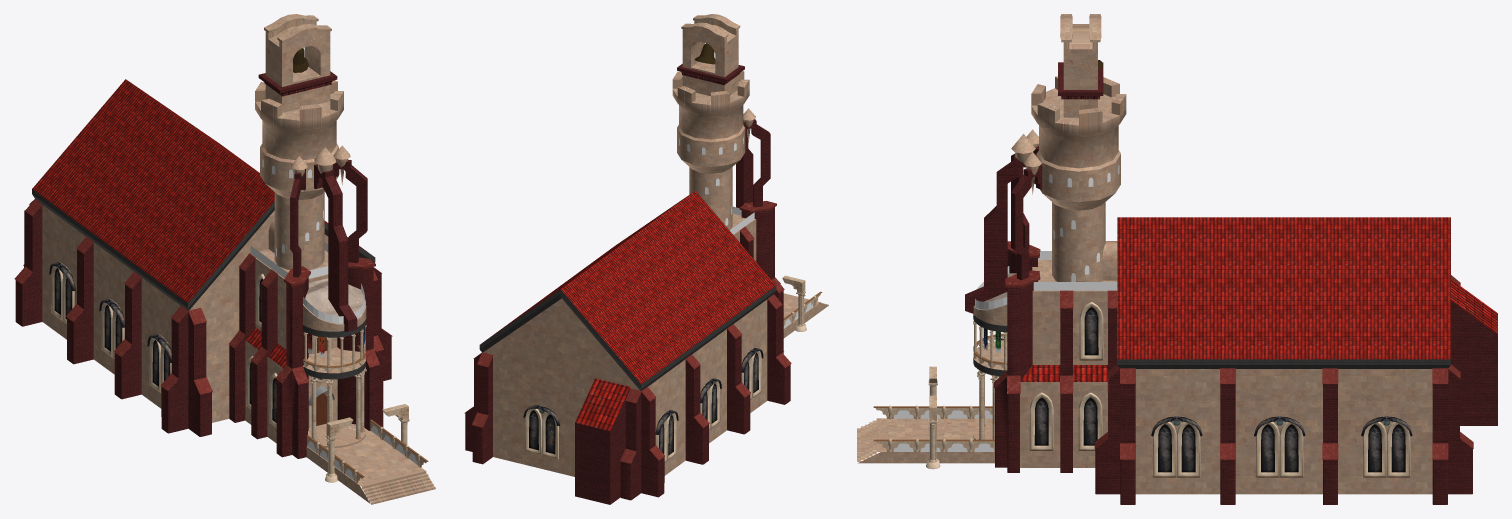
The model's file is Church.fbx.
3 renders of one model, left to right at view 1: azimuth 30°, elevation 25°; view 2: azimuth 150°, elevation 25°; view 3: azimuth 270°, elevation 25°, orthographic. The views are drawn at different scales.
Visible parts, largest first — view 1: Combined_ChurchRoot_Mesh_2, Combined_ChurchRoot_Mesh_3, Combined_ChurchRoot_Mesh_5, Combined_ChurchRoot_Mesh_6, Combined_ChurchRoot_Mesh_18, Combined_ChurchRoot_Mesh_1, Combined_ChurchRoot_Mesh_21, Combined_ChurchRoot_Mesh_4, Combined_ChurchRoot_Mesh_10, Combined_ChurchRoot_Mesh_12, Combined_ChurchRoot_Mesh_16, Combined_ChurchRoot_Mesh_11 (+2 smaller); view 2: Combined_ChurchRoot_Mesh_2, Combined_ChurchRoot_Mesh_5, Combined_ChurchRoot_Mesh_3, Combined_ChurchRoot_Mesh_6, Combined_ChurchRoot_Mesh_1, Combined_ChurchRoot_Mesh_18; view 3: Combined_ChurchRoot_Mesh_2, Combined_ChurchRoot_Mesh_5, Combined_ChurchRoot_Mesh_3, Combined_ChurchRoot_Mesh_6, Combined_ChurchRoot_Mesh_18, Combined_ChurchRoot_Mesh_1, Combined_ChurchRoot_Mesh_21, Combined_ChurchRoot_Mesh_12, Combined_ChurchRoot_Mesh_10.
Part boxes in pixels (left/top/right/bottom): Combined_ChurchRoot_Mesh_2: left=42, top=14, right=435, bottom=504; Combined_ChurchRoot_Mesh_3: left=15, top=71, right=391, bottom=458; Combined_ChurchRoot_Mesh_5: left=32, top=79, right=371, bottom=367; Combined_ChurchRoot_Mesh_6: left=49, top=262, right=325, bottom=427; Combined_ChurchRoot_Mesh_18: left=14, top=199, right=392, bottom=394; Combined_ChurchRoot_Mesh_1: left=32, top=189, right=375, bottom=379; Combined_ChurchRoot_Mesh_21: left=250, top=242, right=417, bottom=480; Combined_ChurchRoot_Mesh_4: left=303, top=278, right=366, bottom=324; Combined_ChurchRoot_Mesh_10: left=303, top=325, right=409, bottom=482; Combined_ChurchRoot_Mesh_12: left=303, top=346, right=426, bottom=483; Combined_ChurchRoot_Mesh_16: left=305, top=329, right=364, bottom=443; Combined_ChurchRoot_Mesh_11: left=326, top=404, right=408, bottom=438; Combined_ChurchRoot_Mesh_2: left=483, top=14, right=828, bottom=476; Combined_ChurchRoot_Mesh_5: left=483, top=191, right=776, bottom=430; Combined_ChurchRoot_Mesh_3: left=465, top=64, right=790, bottom=504; Combined_ChurchRoot_Mesh_6: left=523, top=348, right=763, bottom=462; Combined_ChurchRoot_Mesh_1: left=479, top=286, right=776, bottom=390; Combined_ChurchRoot_Mesh_18: left=464, top=201, right=791, bottom=463; Combined_ChurchRoot_Mesh_2: left=857, top=14, right=1432, bottom=494; Combined_ChurchRoot_Mesh_5: left=1020, top=217, right=1497, bottom=381; Combined_ChurchRoot_Mesh_3: left=965, top=62, right=1497, bottom=504; Combined_ChurchRoot_Mesh_6: left=1029, top=302, right=1412, bottom=477; Combined_ChurchRoot_Mesh_18: left=994, top=241, right=1473, bottom=459; Combined_ChurchRoot_Mesh_1: left=973, top=314, right=1450, bottom=376; Combined_ChurchRoot_Mesh_21: left=893, top=251, right=1117, bottom=451; Combined_ChurchRoot_Mesh_12: left=875, top=335, right=1007, bottom=451; Combined_ChurchRoot_Mesh_10: left=926, top=316, right=1007, bottom=469.
Bounding box in the file's own units: 2852 × 4831 × 6575.
